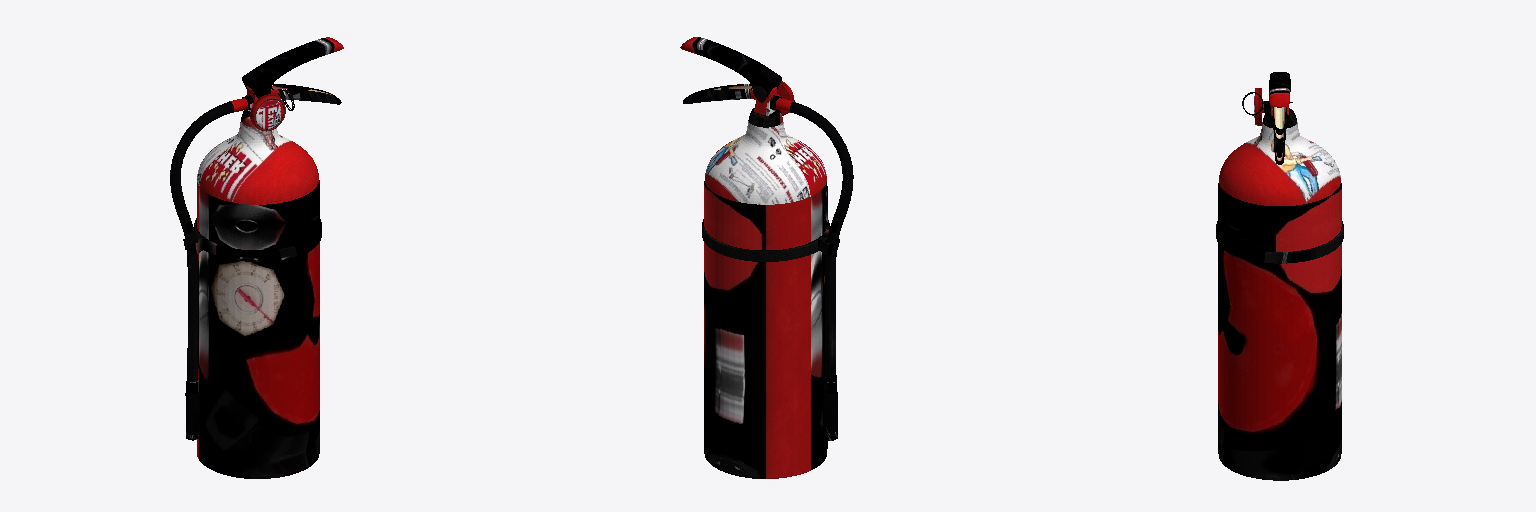
3 renders of one model, left to right at view 1: azimuth 30°, elevation 25°; view 2: azimuth 150°, elevation 25°; view 3: azimuth 270°, elevation 25°, orthographic.
Parts seen in each view (by area): view 1: ogneushitl_n; view 2: ogneushitl_n; view 3: ogneushitl_n.
Part boxes in pixels (bbox=[...]): ogneushitl_n: bbox=[170, 37, 343, 478]; ogneushitl_n: bbox=[680, 37, 853, 478]; ogneushitl_n: bbox=[1216, 72, 1343, 480].
Bounding box in the file's own units: 0.6346 × 1.42 × 0.4136.
Materials: 1 (1 with a texture image).